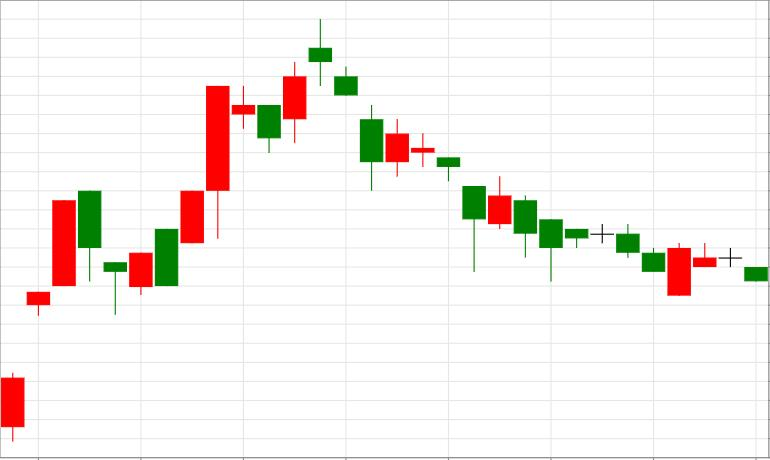bullish_engulfing_rise: (514, 195, 691, 296)
evening_star_fall: (129, 19, 358, 296)
hammer_rise: (334, 67, 486, 273)
